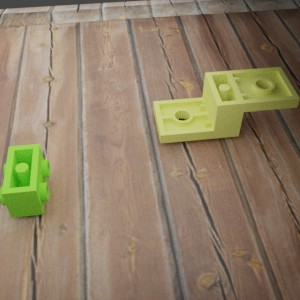lego: (153, 66, 300, 143), (0, 143, 50, 217)
